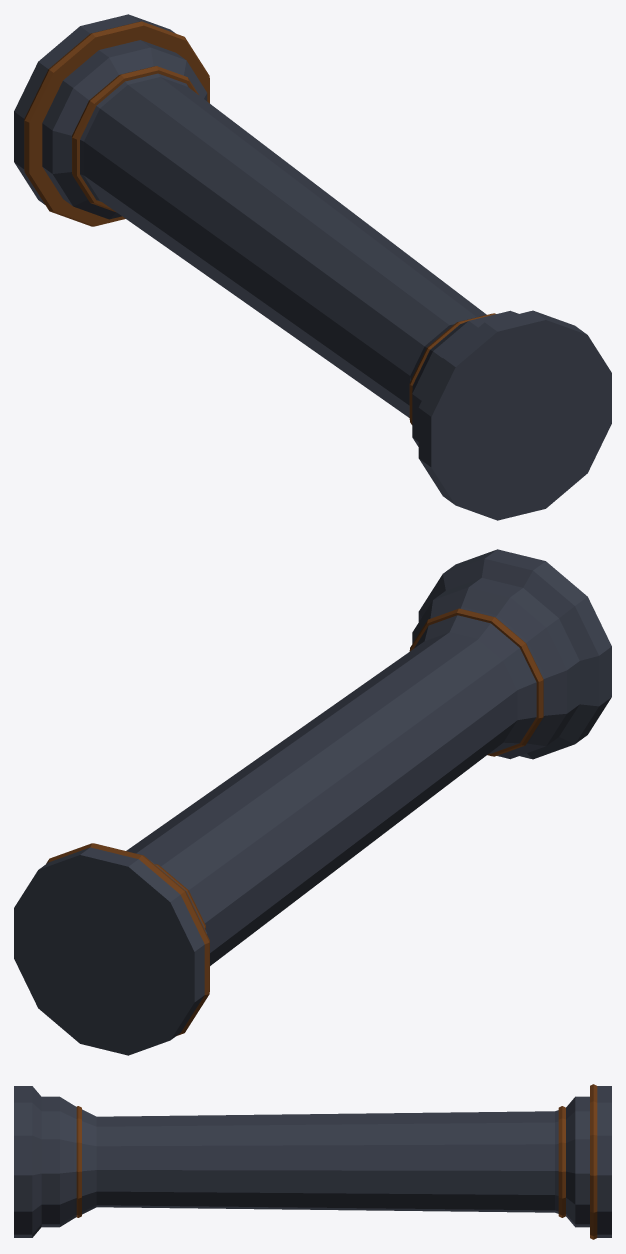
File: SM_MF_GothicColumn.obj
The picture shows the model from 3 angles, top to bottom: view 1: azimuth 30°, elevation 25°; view 2: azimuth 150°, elevation 25°; view 3: azimuth 270°, elevation 25°; orthographic projection. The views are drawn at different scales.
Parts seen in each view (by area): view 1: SM_MF_GothicColumn; view 2: SM_MF_GothicColumn; view 3: SM_MF_GothicColumn.
Part boxes in pixels (box(x1,y1,x2,y2)): SM_MF_GothicColumn: box(14, 14, 611, 520); SM_MF_GothicColumn: box(14, 549, 611, 1055); SM_MF_GothicColumn: box(14, 1084, 611, 1239).
Bounding box in the file's own units: 83.07 × 83.07 × 325.
